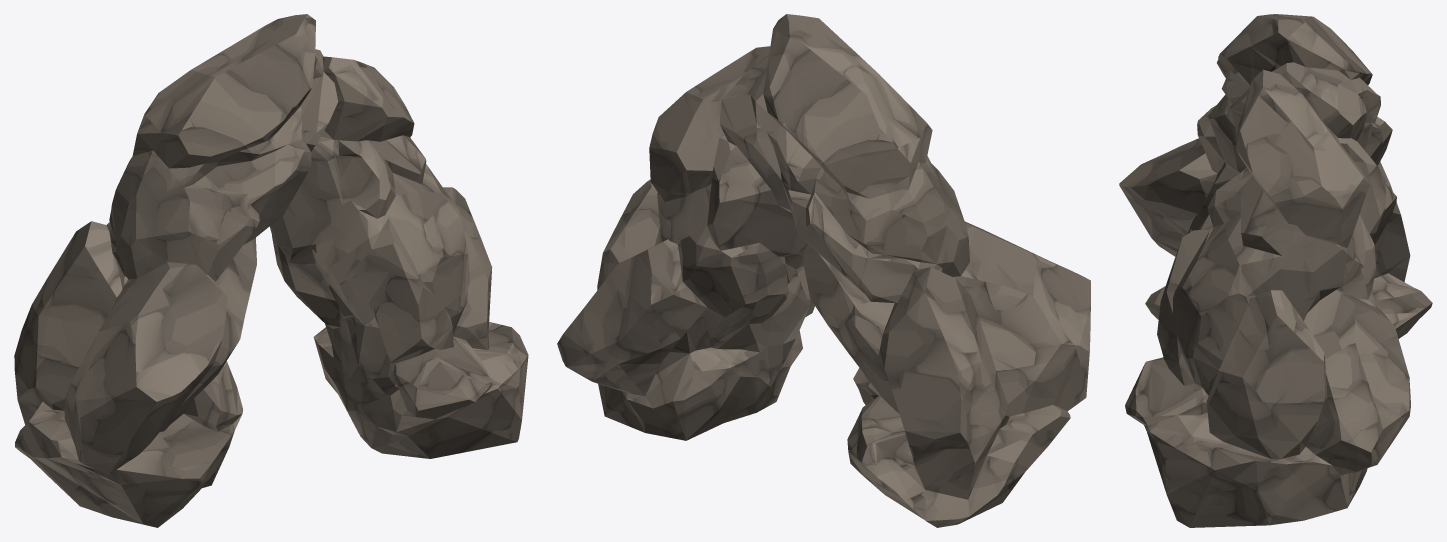
File: synty-rock-caveentrance-02.gltf
3 renders of one model, left to right at view 1: azimuth 30°, elevation 25°; view 2: azimuth 150°, elevation 25°; view 3: azimuth 270°, elevation 25°, orthographic.
Parts seen in each view (by area): view 1: SM_Rock_CaveEntrance_02; view 2: SM_Rock_CaveEntrance_02; view 3: SM_Rock_CaveEntrance_02.
Boxes of the visible parts, x1=… form: SM_Rock_CaveEntrance_02: x1=14, y1=14, x2=528, y2=527; SM_Rock_CaveEntrance_02: x1=557, y1=14, x2=1090, y2=527; SM_Rock_CaveEntrance_02: x1=1119, y1=14, x2=1432, y2=527.
Size of the model in its own units: 11.19 by 10.21 by 6.66.
Materials: 1 (1 with a texture image).
